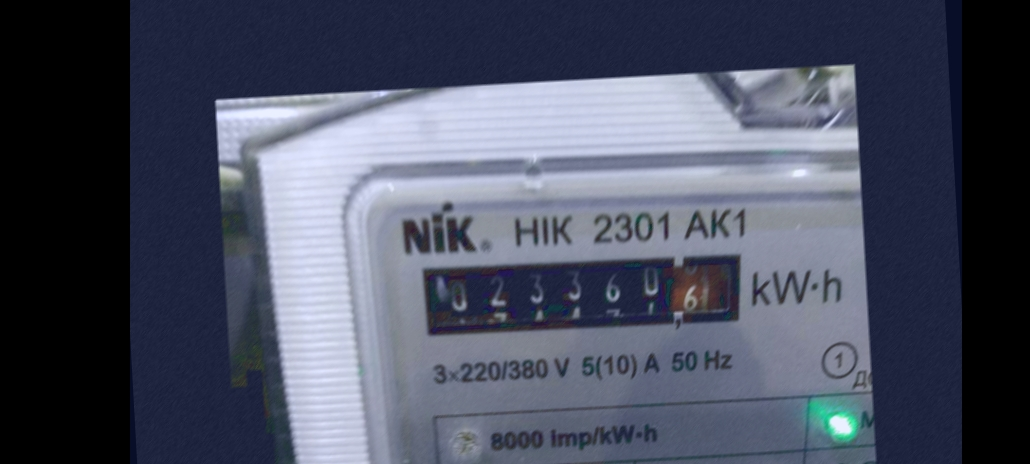0: (637, 260, 661, 297), (444, 275, 468, 311)
2: (484, 271, 507, 307)
3: (523, 269, 545, 305), (562, 266, 582, 301)
6: (599, 267, 621, 302), (678, 277, 697, 311)
screen: (406, 236, 762, 354)
